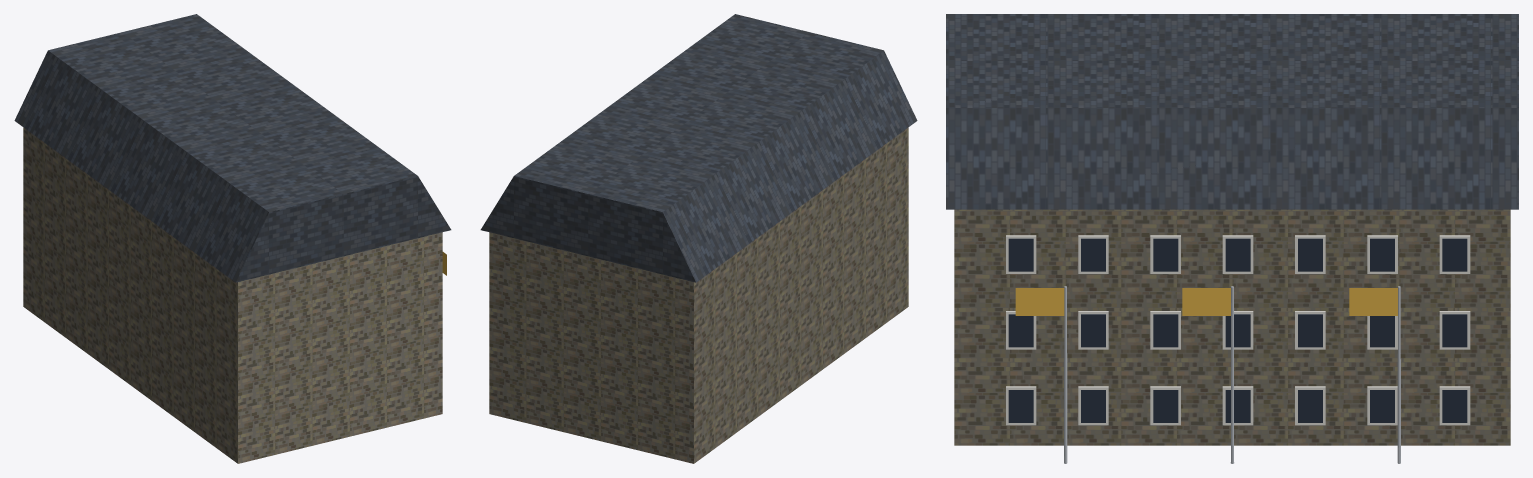
The model's file is customs_house.glb.
3 views of the same model, side by side, from view 1: azimuth 30°, elevation 25°; view 2: azimuth 150°, elevation 25°; view 3: azimuth 270°, elevation 25° (orthographic). The views are drawn at different scales.
Visible parts, largest first — view 1: customs; view 2: customs; view 3: customs.
Part boxes in pixels (x1=…): customs: x1=14, y1=14, x2=451, y2=463; customs: x1=480, y1=14, x2=917, y2=463; customs: x1=946, y1=14, x2=1518, y2=463.
Bounding box in the file's own units: 12.86 × 12.7 × 20.6.
6 materials, 2 textured.
